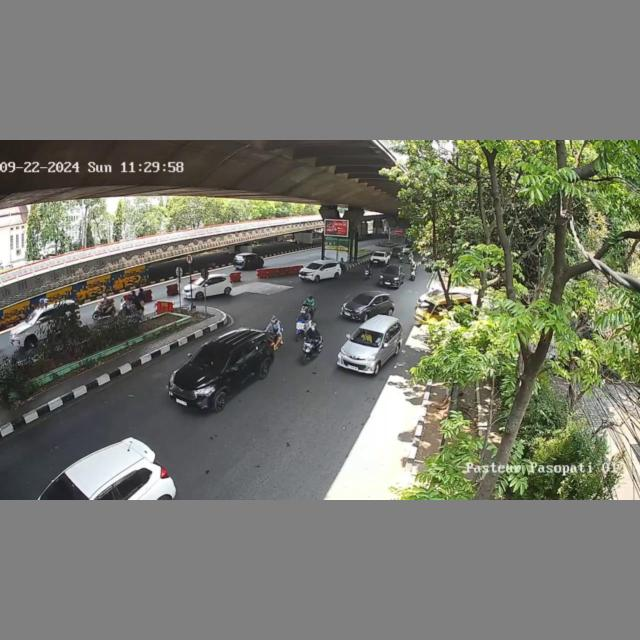windshield: (187, 344, 232, 371), (348, 324, 385, 350), (418, 300, 436, 313), (352, 294, 372, 305), (384, 267, 400, 275)
